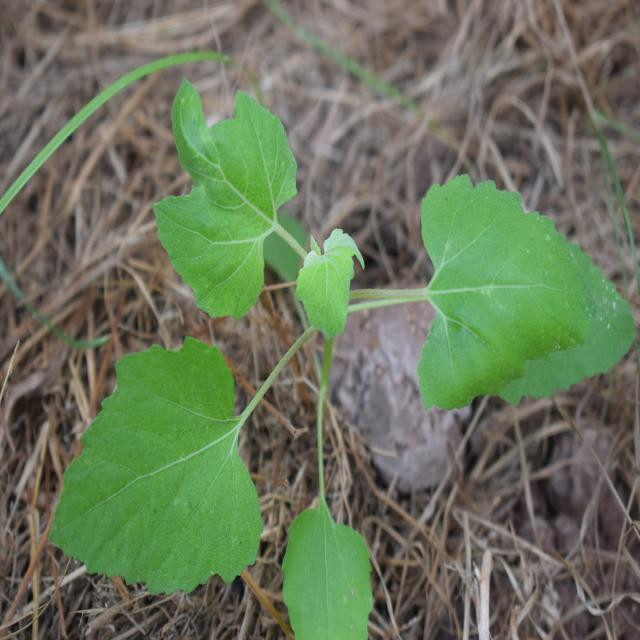cocklebur: (61, 85, 618, 614)
